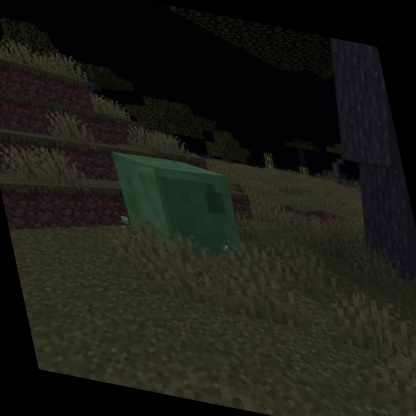slime: (103, 142, 255, 273)
